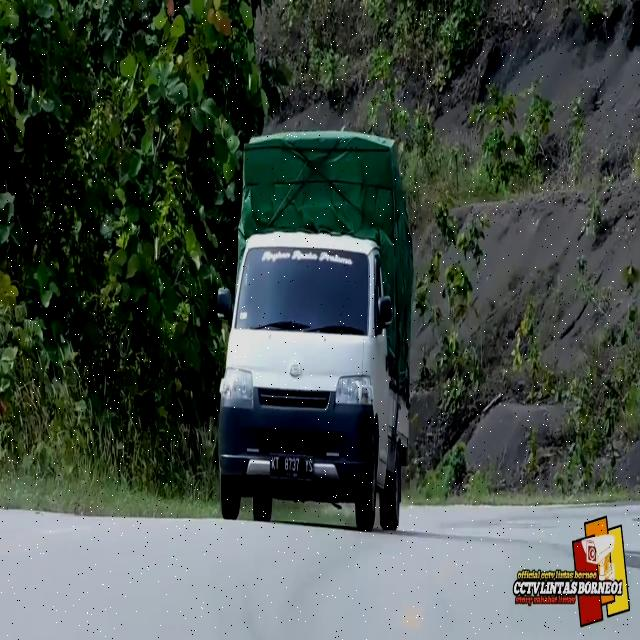Golongan IVB: (217, 233, 411, 530)
